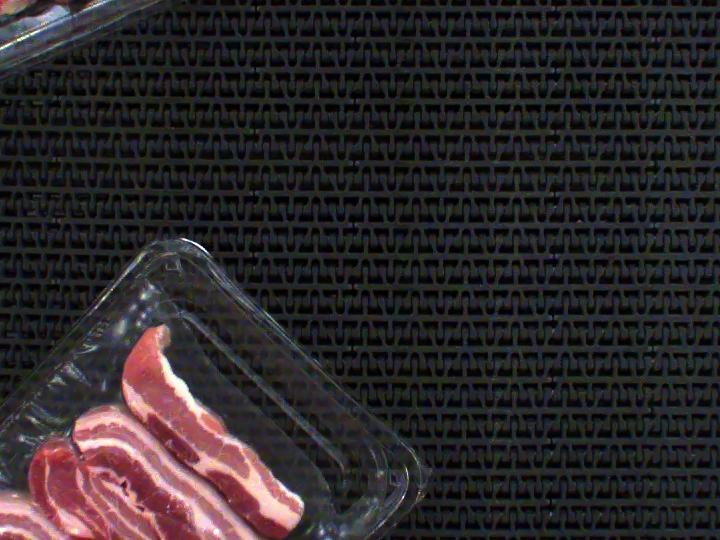unsealed: (0, 252, 350, 540)
